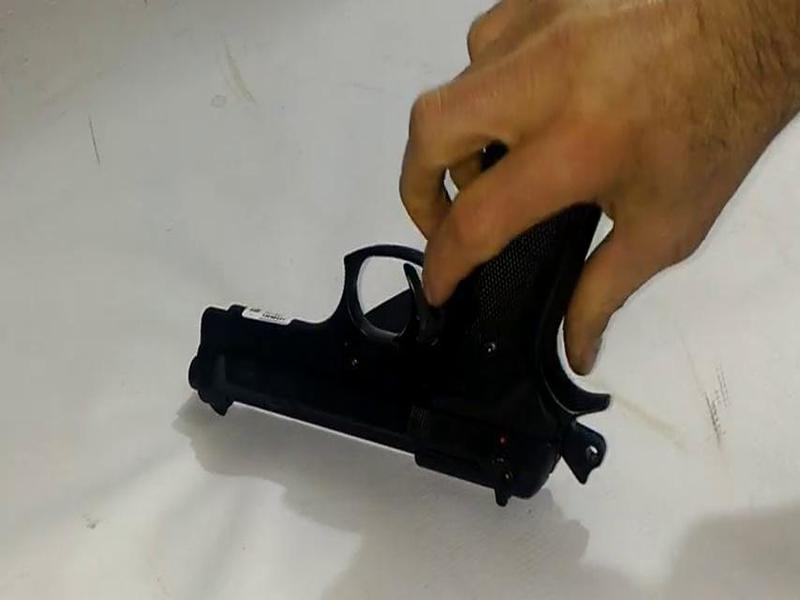Pistola: (141, 115, 647, 519)
